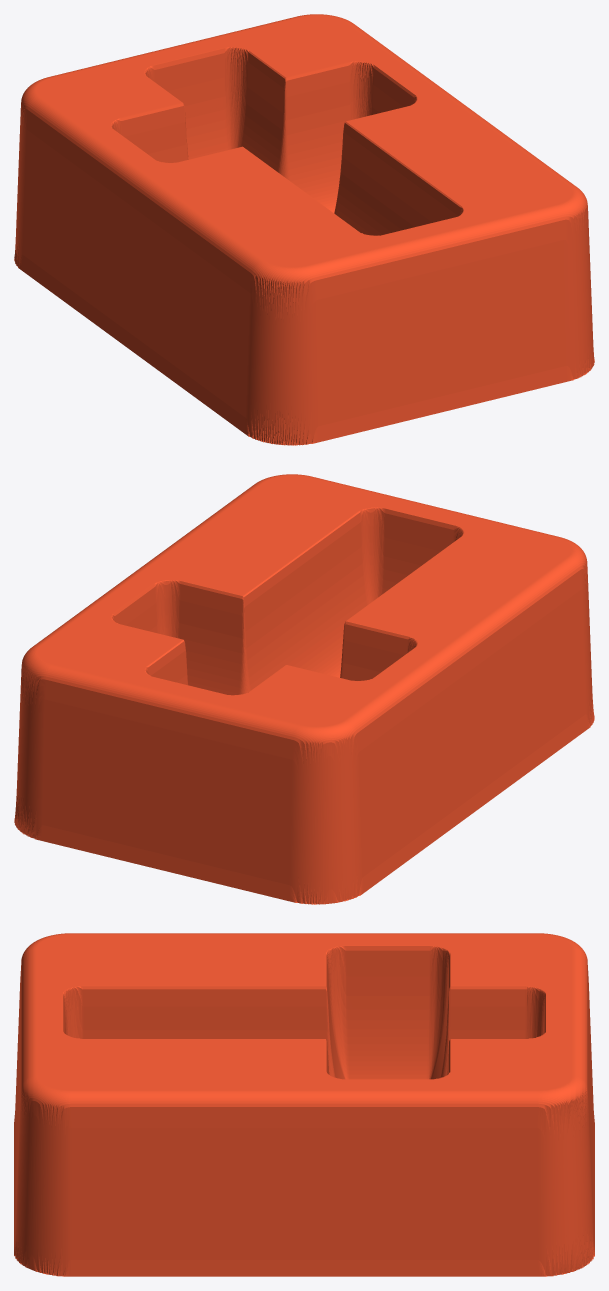
The model's file is mold.glb.
3 views of the same model, one above another, from view 1: azimuth 30°, elevation 25°; view 2: azimuth 150°, elevation 25°; view 3: azimuth 270°, elevation 25° (orthographic). The views are drawn at different scales.
Parts seen in each view (by area): view 1: geometry_0; view 2: geometry_0; view 3: geometry_0.
Part boxes in pixels (x1=…): geometry_0: x1=14, y1=14, x2=594, y2=445; geometry_0: x1=14, y1=474, x2=594, y2=904; geometry_0: x1=14, y1=933, x2=594, y2=1276.
Bounding box in the file's own units: 0.0658 × 0.031 × 0.0924.
